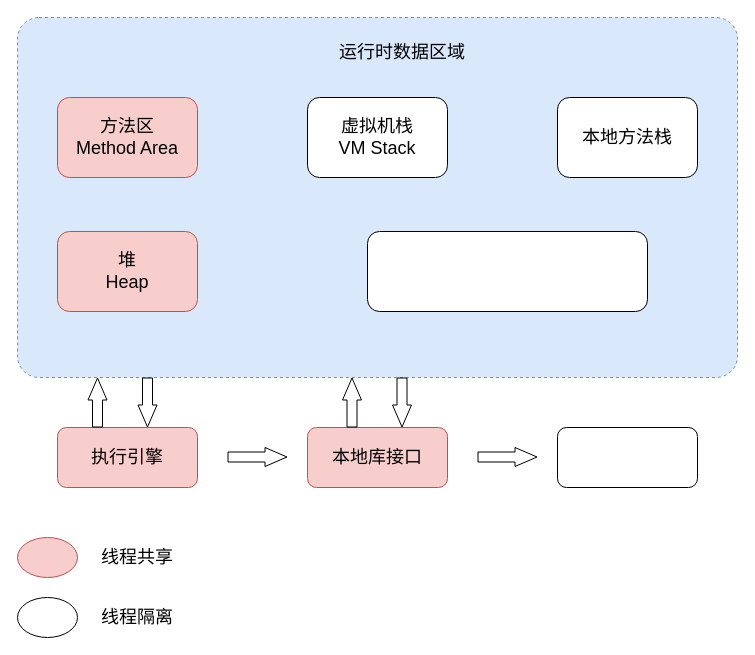
Image size: 755x655. Some labels were removed from this diagram. Here are the shapes that lost their labels. From the top down, the centre of each, then its label:
the point at 507,271: 程序计数寄存器 Program Counter Register
the point at 627,457: 本地方法库
